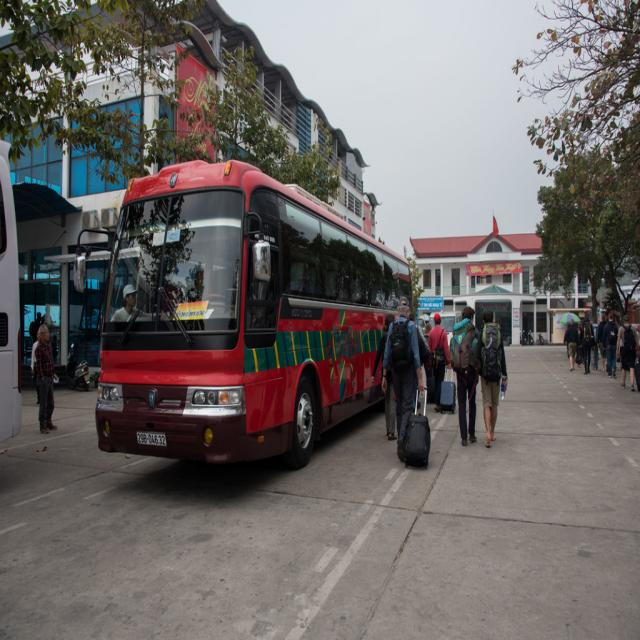Buses: (96, 161, 412, 481)
Pedestrians: (448, 307, 479, 448), (479, 309, 508, 452), (36, 326, 56, 440)
